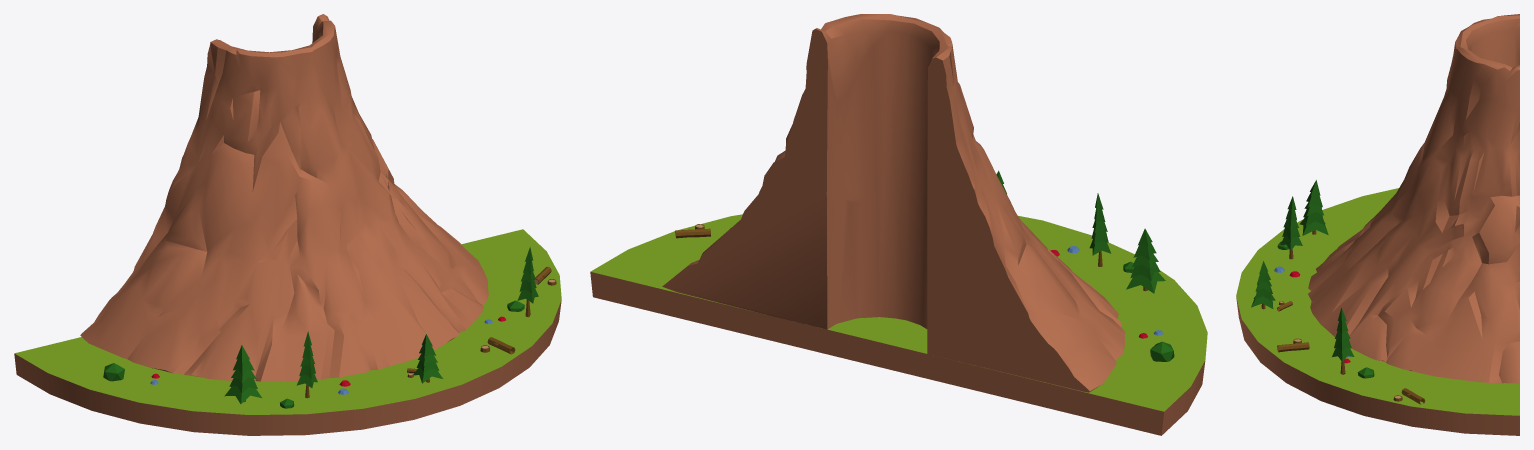
File: Other Part 002.fbx
3 renders of one model, left to right at view 1: azimuth 30°, elevation 25°; view 2: azimuth 150°, elevation 25°; view 3: azimuth 270°, elevation 25°, orthographic. The views are drawn at different scales.
Visible parts, largest first — view 1: Other Part.002; view 2: Other Part.002; view 3: Other Part.002.
Part boxes in pixels (x1=…): Other Part.002: x1=14, y1=14, x2=561, y2=435; Other Part.002: x1=590, y1=14, x2=1207, y2=435; Other Part.002: x1=1236, y1=14, x2=1519, y2=435.
Size of the model in its own units: 101 by 54.72 by 50.37.
